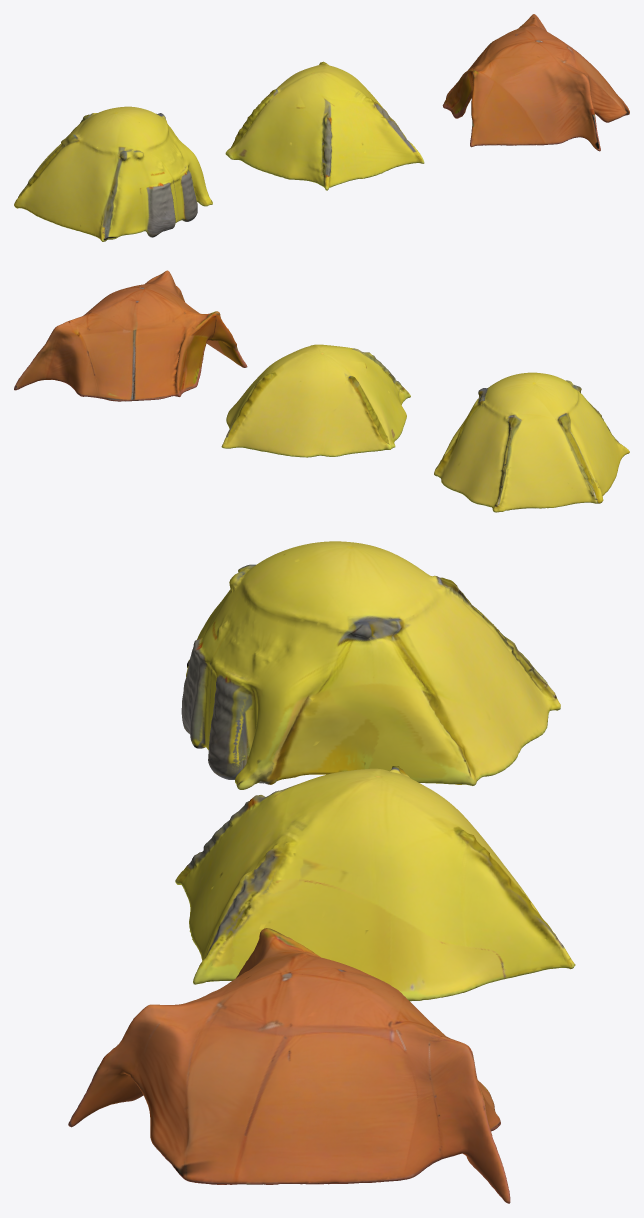
Rendered from Camping_Trio_0821062528_texture.fbx.
The picture shows the model from 3 angles, top to bottom: view 1: azimuth 30°, elevation 25°; view 2: azimuth 150°, elevation 25°; view 3: azimuth 270°, elevation 25°; orthographic projection. The views are drawn at different scales.
Visible parts, largest first — view 1: input; view 2: input; view 3: input.
Boxes of the visible parts, <box> form: input: <box>14,14,629,241</box>; input: <box>14,270,629,512</box>; input: <box>68,541,575,1203</box>.
Size of the model in its own units: 199 by 32.4 by 77.61.
Materials: 1 (1 with a texture image).
